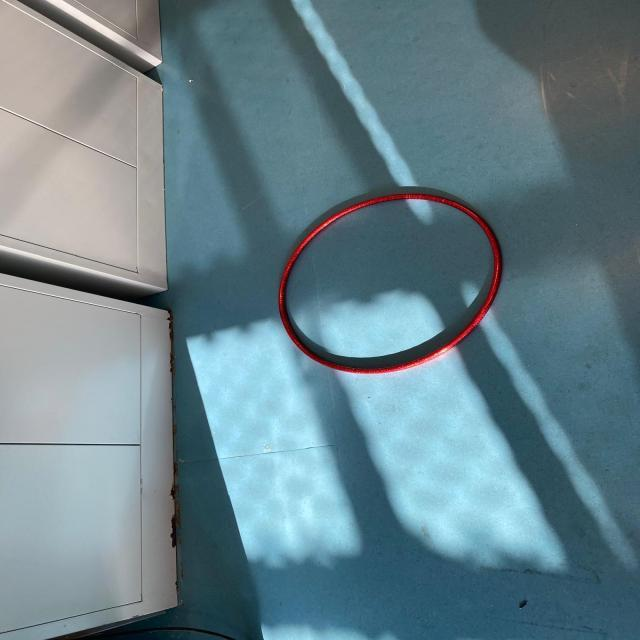Circle: (272, 190, 508, 378)
